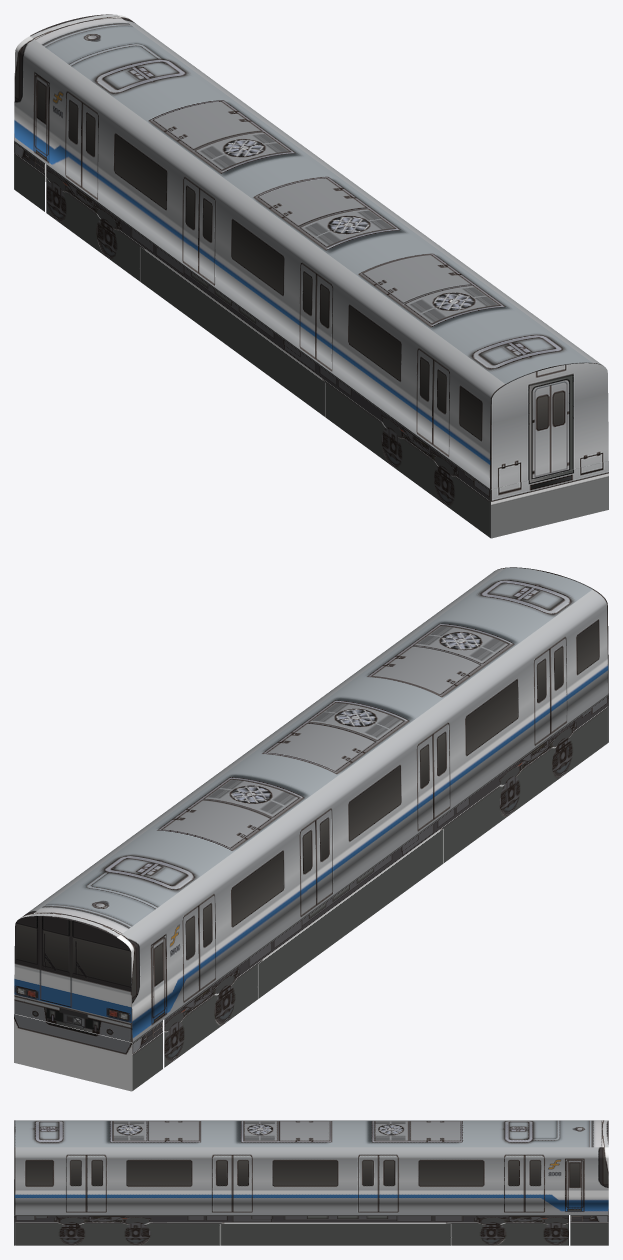
File: car3.glb
The picture shows the model from 3 angles, top to bottom: view 1: azimuth 30°, elevation 25°; view 2: azimuth 150°, elevation 25°; view 3: azimuth 270°, elevation 25°; orthographic projection. The views are drawn at different scales.
Parts seen in each view (by area): view 1: hukuokasub-2000-car3; view 2: hukuokasub-2000-car3; view 3: hukuokasub-2000-car3.
Part boxes in pixels (x1,y1,x2,y2): hukuokasub-2000-car3: (14,14,608,538); hukuokasub-2000-car3: (14,567,608,1091); hukuokasub-2000-car3: (14,1120,608,1245).
Bounding box in the file's own units: 2.86 × 3.61 × 20.03.
Materials: 9 (8 with a texture image).
